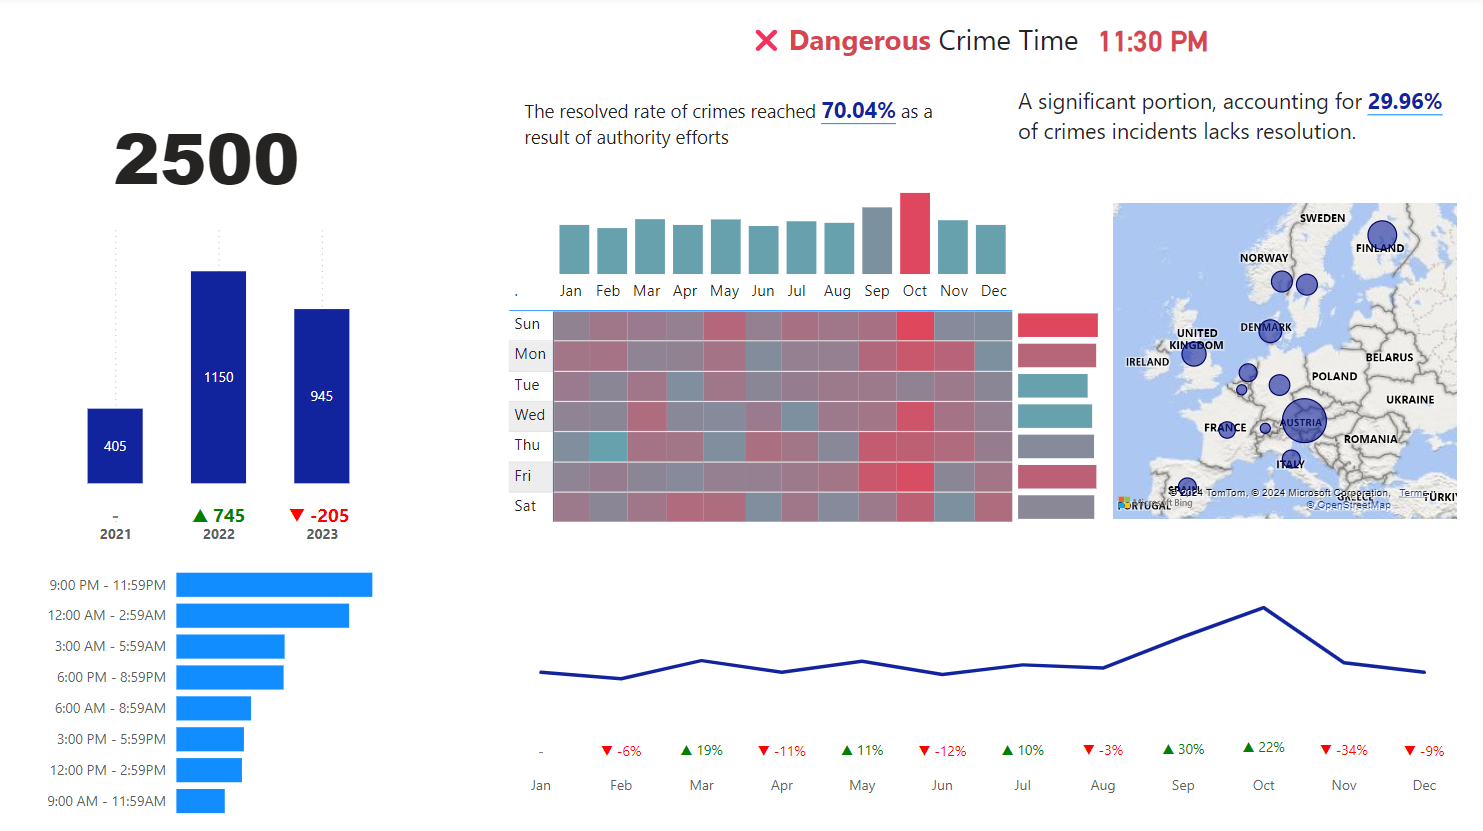

The dashboard page shown, as its layout file describes it:
{"tool":"powerbi","page":{"name":"Report","canvas":[1280,720],"ordinal":0},"visuals":[{"type":"columnChart","fields":{"Category":["DateTable.Year"],"Y":["Calculations.Blank Measure (year)","Calculations.Total Crimes"]},"box":[94.2,245.3,239.3,243.8],"z":0},{"type":"lineChart","fields":{"Category":["DateTable.Month"],"Y":["Calculations.Blank Measure (Month)","Calculations.Total Crimes"]},"box":[427.6,495,831.9,204.7],"z":1000},{"type":"clusteredBarChart","fields":{"Category":["Crime Data.Time Group"],"Y":["Calculations.Total Crimes"]},"box":[74,514.1,278.8,199.2],"z":2000},{"type":"pivotTable","fields":{"Rows":["DateTable.Weekday"],"Columns":["DateTable.Month"],"Values":["Calculations.Total Crimes"]},"box":[398.3,259.9,449.6,223.8],"z":3000},{"type":"clusteredColumnChart","fields":{"Y":["Calculations.Total Crimes"],"Category":["DateTable.Month"]},"box":[427.8,191.5,411.4,68.8],"z":4000},{"type":"clusteredBarChart","fields":{"Y":["Calculations.Total Crimes"],"Category":["DateTable.Weekday"]},"box":[838.4,278.8,64.5,204.9],"z":5000},{"type":"textbox","box":[447.3,91.2,368,59.8],"z":6000},{"type":"textbox","box":[873.6,91.2,387.4,83.8],"z":7000},{"type":"azureMap","fields":{"Category":["Crime Data.Country"],"Size":["Calculations.Total Crimes"]},"box":[962.7,207.4,296.8,258.7],"z":8000},{"type":"card","fields":{"Values":["Calculations.Total Crimes"]},"box":[104.3,91,248.5,130.9],"z":9000},{"type":"textbox","box":[675.3,17.1,299.7,55],"z":10000},{"type":"card","fields":{"Values":["Calculations.Cross"]},"box":[614.6,9.5,92.9,62.6],"z":11000},{"type":"card","fields":{"Values":["Min(Crime Data.Crime Time)"]},"box":[907.5,11.4,148.4,55.2],"z":12000},{"type":"textbox","box":[44.9,71.8,204.9,44.9],"z":13000},{"type":"textbox","box":[45.5,225.7,204.9,53.1],"z":14000},{"type":"textbox","box":[45.5,491.3,288.3,47.4],"z":15000},{"type":"textbox","box":[386.2,173.6,277.3,49.2],"z":16000},{"type":"textbox","box":[383.2,483.7,278.8,36],"z":17000},{"type":"textbox","box":[938.9,174.5,233.3,32.2],"z":18000},{"type":"textbox","box":[100.8,17.1,523.2,55.2],"z":19000},{"type":"slicer","title":"Crime Type","fields":{"Values":["Crime Types.Crime"]},"box":[1056.6,17.1,218.1,55],"z":20000},{"type":"shape","box":[873.3,245.4,30.4,53.3],"z":21000},{"type":"shape","box":[839,196,30.4,53.3],"z":22000},{"type":"textbox","box":[793.3,180.7,91.3,45.7],"z":23000},{"type":"textbox","box":[854.2,230.2,137,30.4],"z":23001}]}

Visuals, with their boxes in screenshot pixels (x1, y1, x2, y2), scaled from the page's 1280x720 canvas onto the 1483x831 screenshot:
columnChart - DateTable.Year x Calculations.Blank Measure (year): l=109, t=283, r=386, b=565
lineChart - DateTable.Month x Calculations.Blank Measure (Month): l=495, t=571, r=1459, b=808
clusteredBarChart - Crime Data.Time Group x Calculations.Total Crimes: l=86, t=593, r=409, b=823
pivotTable - DateTable.Weekday x DateTable.Month: l=461, t=300, r=982, b=558
clusteredColumnChart - Calculations.Total Crimes x DateTable.Month: l=496, t=221, r=972, b=300
clusteredBarChart - Calculations.Total Crimes x DateTable.Weekday: l=971, t=322, r=1046, b=558
textbox: l=518, t=105, r=945, b=174
textbox: l=1012, t=105, r=1461, b=202
azureMap - Crime Data.Country x Calculations.Total Crimes: l=1115, t=239, r=1459, b=538
card - Calculations.Total Crimes: l=121, t=105, r=409, b=256
textbox: l=782, t=20, r=1130, b=83
card - Calculations.Cross: l=712, t=11, r=820, b=83
card - Min(Crime Data.Crime Time): l=1051, t=13, r=1223, b=77
textbox: l=52, t=83, r=289, b=135
textbox: l=53, t=260, r=290, b=322
textbox: l=53, t=567, r=387, b=622
textbox: l=447, t=200, r=769, b=257
textbox: l=444, t=558, r=767, b=600
textbox: l=1088, t=201, r=1358, b=239
textbox: l=117, t=20, r=723, b=83
"Crime Type" slicer: l=1224, t=20, r=1477, b=83
shape: l=1012, t=283, r=1047, b=345
shape: l=972, t=226, r=1007, b=288
textbox: l=919, t=209, r=1025, b=261
textbox: l=990, t=266, r=1148, b=301
